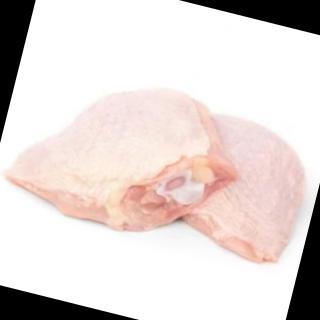Ayam: (1, 50, 320, 272), (1, 53, 254, 254), (176, 105, 320, 272)
